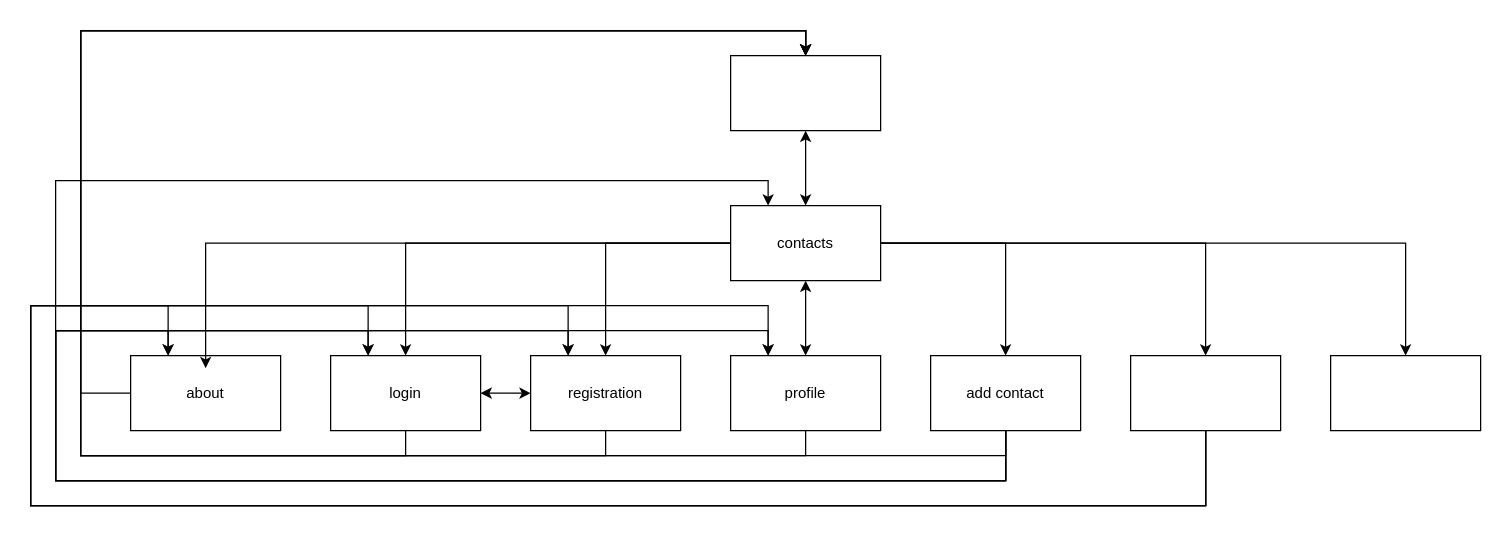
Image size: 1503x538. Some labels were removed from this diagram. Here are the shapes that lost their labels. From the top down, the centre of each, then its label:
At [805,92]: "home".
At [1205,392]: "edit contact".
At [1405,392]: "delete contact".
